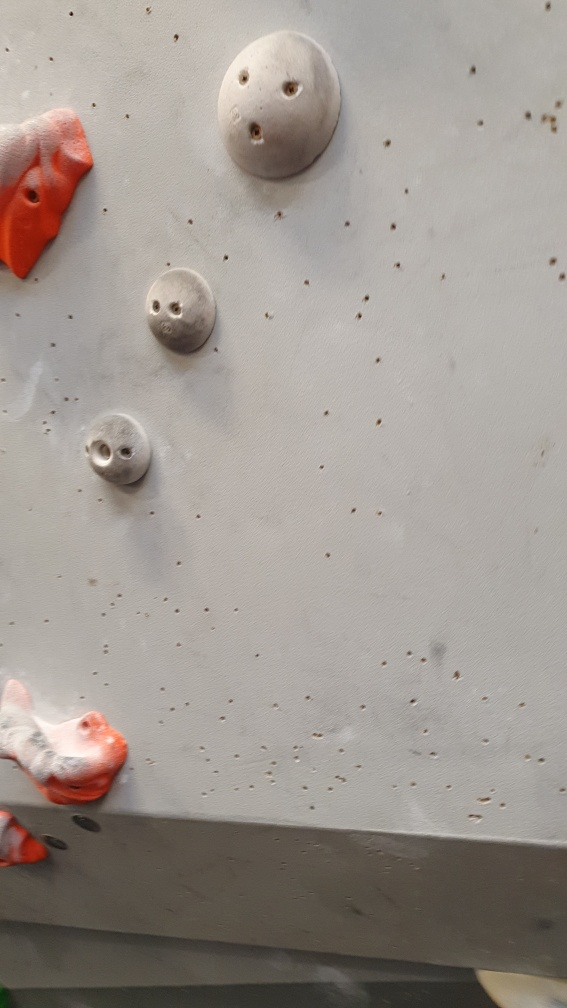Hand Start: (40, 827, 71, 855), (71, 813, 104, 836)
Jug: (1, 673, 132, 815), (1, 103, 98, 280)
Sloper: (216, 27, 344, 182), (144, 264, 221, 356), (81, 410, 157, 489)
